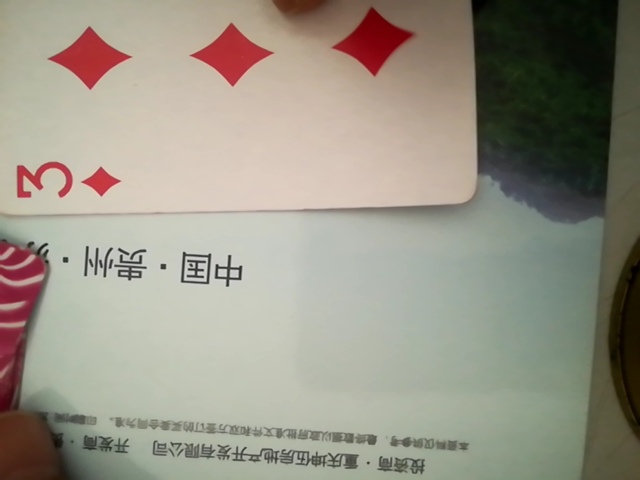fk 3: (0, 0, 489, 215)
